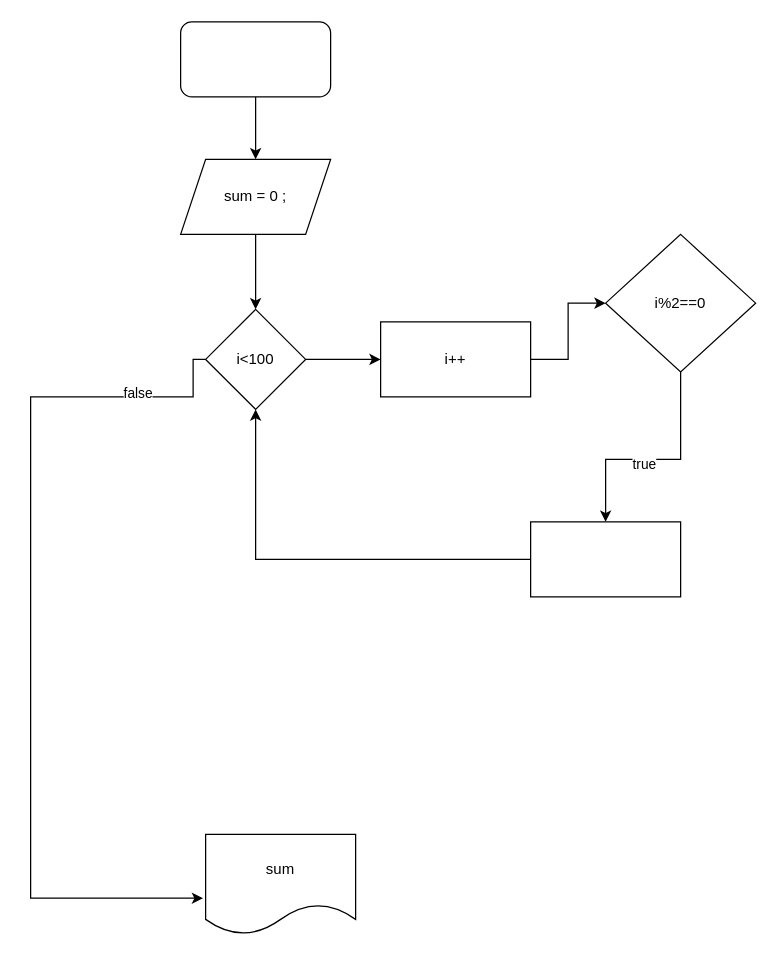
This 778x956 diagram has some shape labels left out. The centre of each missing label's shape, as x and y in pixels:
"start" goes at point (255, 59).
"sum=sum + i;" goes at point (605, 559).
